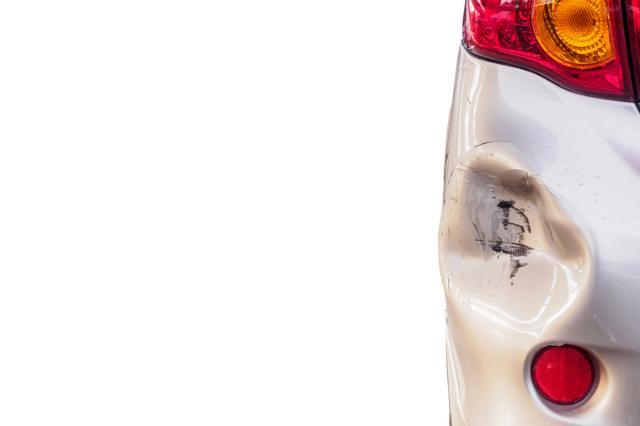Bumper: (415, 114, 640, 426)
